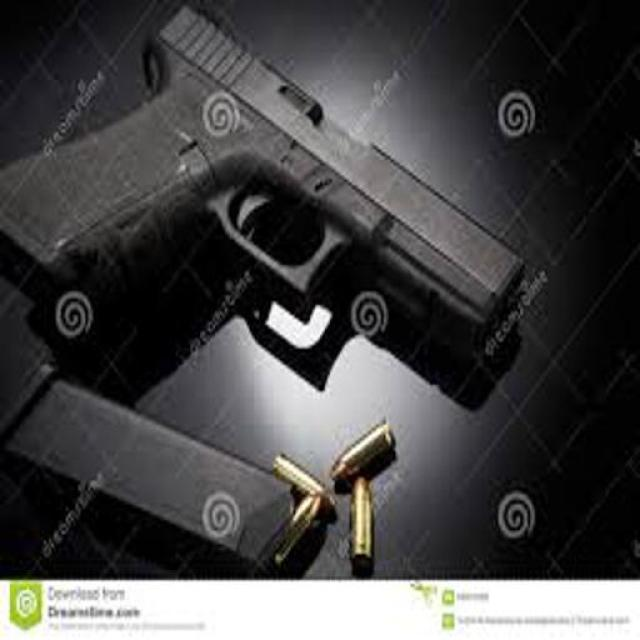pistol: (1, 3, 520, 428)
